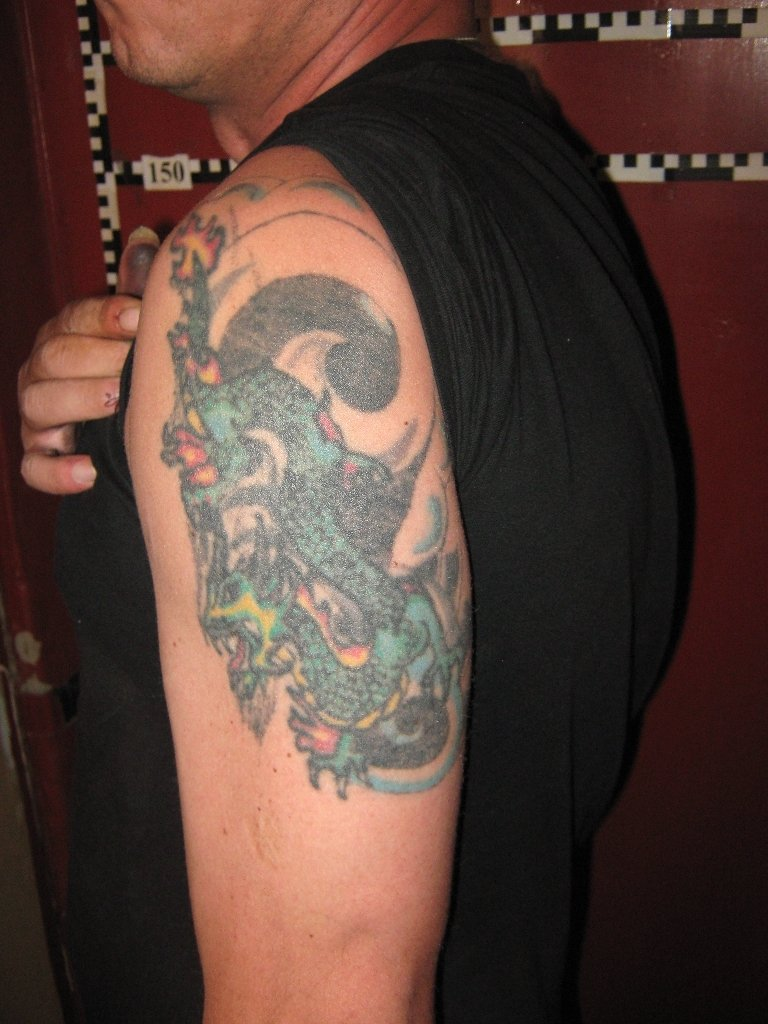tatu6_drakon: (145, 205, 547, 810)
